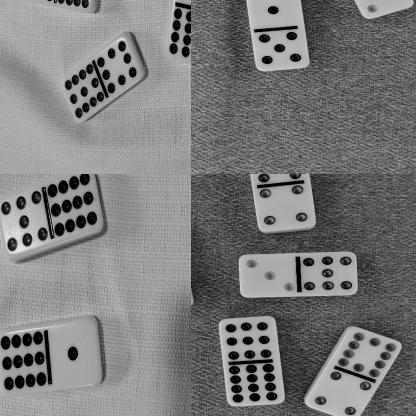pip-1: (48, 320, 104, 388), (246, 0, 303, 29)
pip-10: (338, 327, 402, 378)
pip-11: (62, 64, 104, 124), (57, 0, 93, 15)
pip-12: (47, 174, 104, 237), (0, 326, 49, 395), (225, 364, 286, 406), (167, 9, 191, 68)
pip-3: (239, 254, 298, 298), (357, 0, 414, 20)
pip-4: (304, 372, 372, 416), (257, 185, 316, 231)
pip-5: (252, 29, 310, 72)
pip-7: (0, 190, 48, 255), (300, 252, 358, 296), (247, 174, 307, 184)
pip-8: (98, 39, 144, 95)
pip-9: (218, 318, 278, 362)
